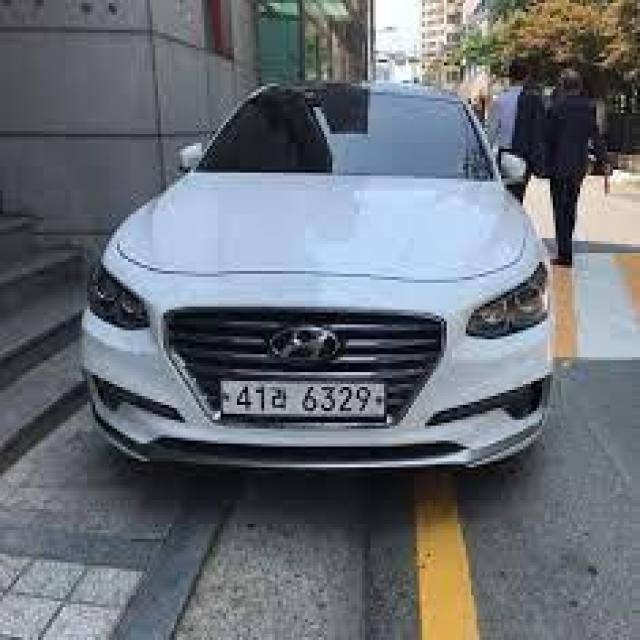car: (80, 67, 573, 503)
illegal_plate: (222, 374, 387, 426)
